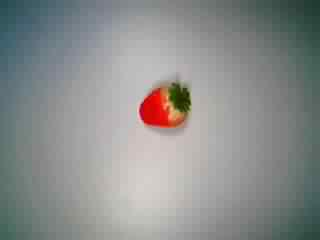strawberry: (131, 75, 199, 139)
